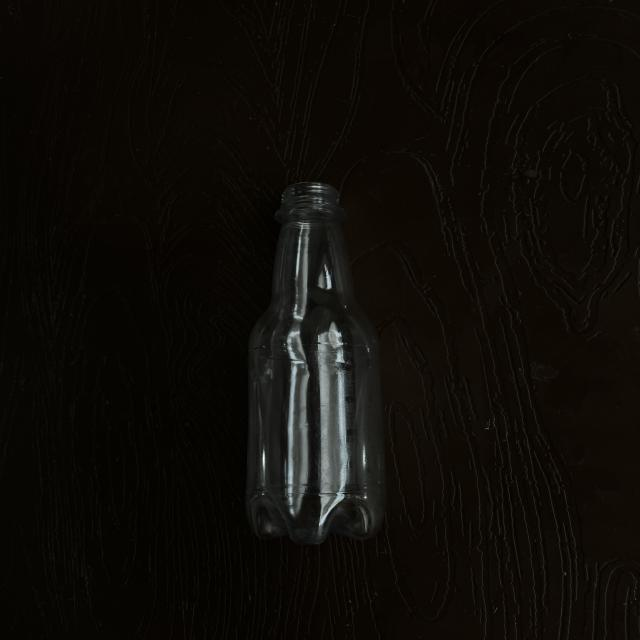PET_ClearBottle: (240, 187, 392, 538)
